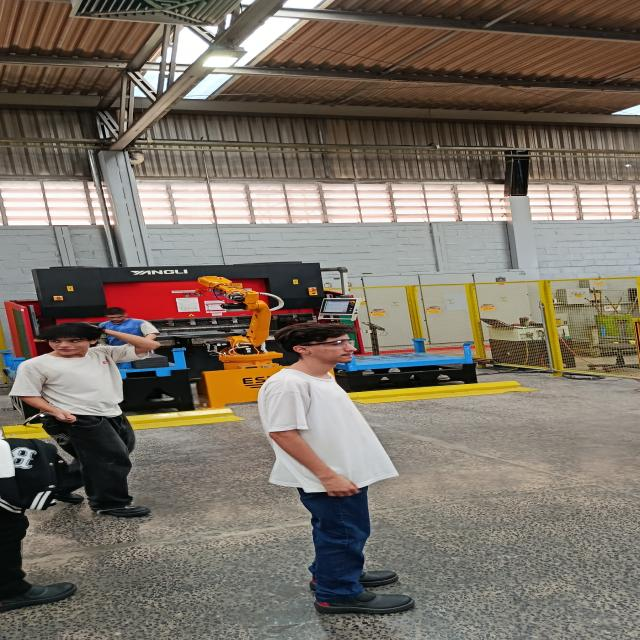oculos-epi: (299, 339, 355, 349), (106, 316, 124, 319)
sem_oculos: (34, 334, 100, 352)
